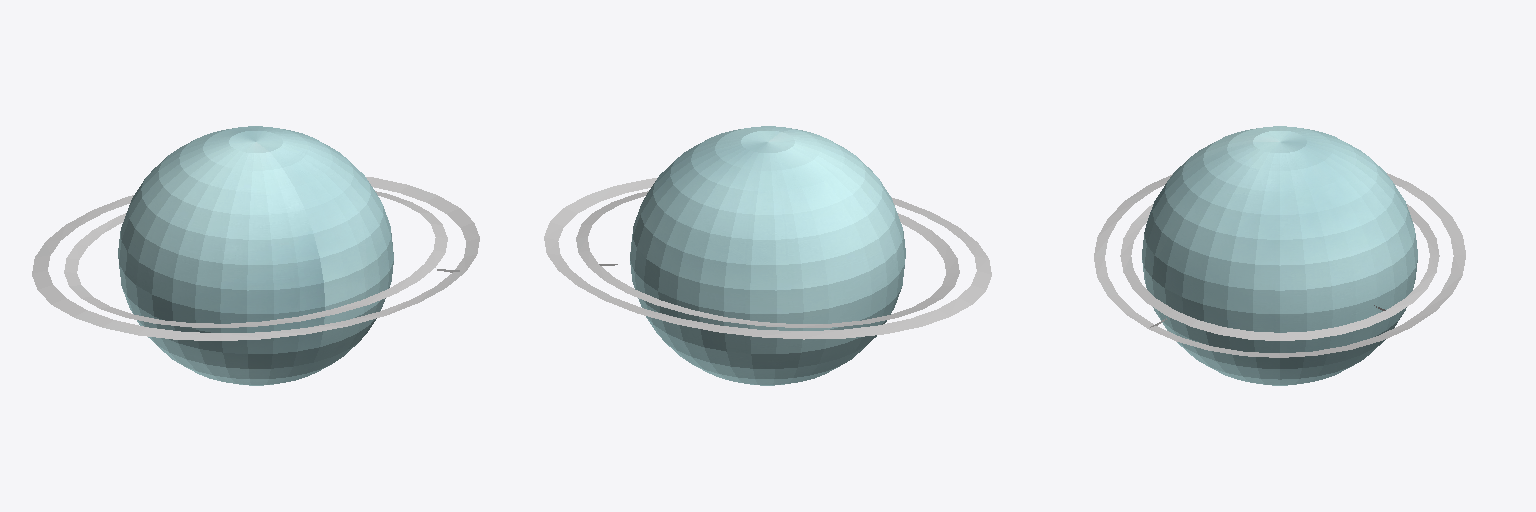
3 renders of one model, left to right at view 1: azimuth 30°, elevation 25°; view 2: azimuth 150°, elevation 25°; view 3: azimuth 270°, elevation 25°, orthographic.
Parts seen in each view (by area): view 1: Sphere_Sphere.001, Circle.001, Circle.000_Circle.002; view 2: Sphere_Sphere.001, Circle.001, Circle.000_Circle.002; view 3: Sphere_Sphere.001, Circle.001, Circle.000_Circle.002.
Boxes of the visible parts, <box> form: Sphere_Sphere.001: <box>118,126,393,385</box>; Circle.001: <box>32,177,479,340</box>; Circle.000_Circle.002: <box>64,191,447,327</box>; Sphere_Sphere.001: <box>630,126,905,385</box>; Circle.001: <box>544,178,991,339</box>; Circle.000_Circle.002: <box>576,191,959,327</box>; Sphere_Sphere.001: <box>1142,126,1417,385</box>; Circle.001: <box>1094,173,1465,357</box>; Circle.000_Circle.002: <box>1120,204,1439,340</box>.
Bounding box in the file's own units: 3.4 × 1.82 × 2.69.
2 materials, 2 textured.